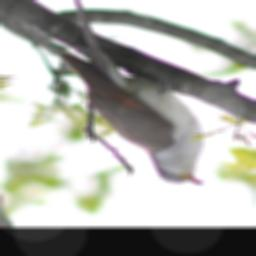Cuckoo: (56, 0, 206, 185)
